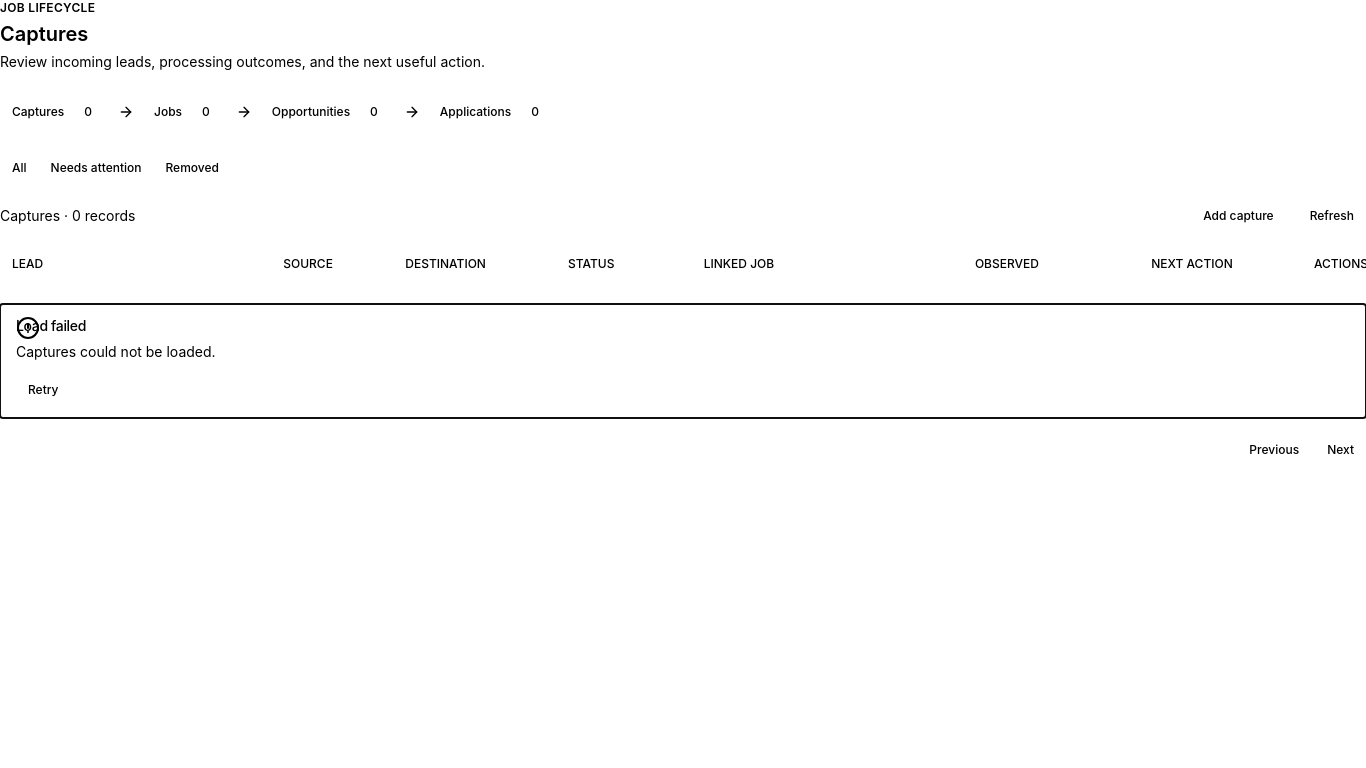
A308-4: shared Application modal actions and reconciliation › fetches Application through client when not in loaded data
Click the button "Applications 0" at (492, 112), box [428,96,557,128]
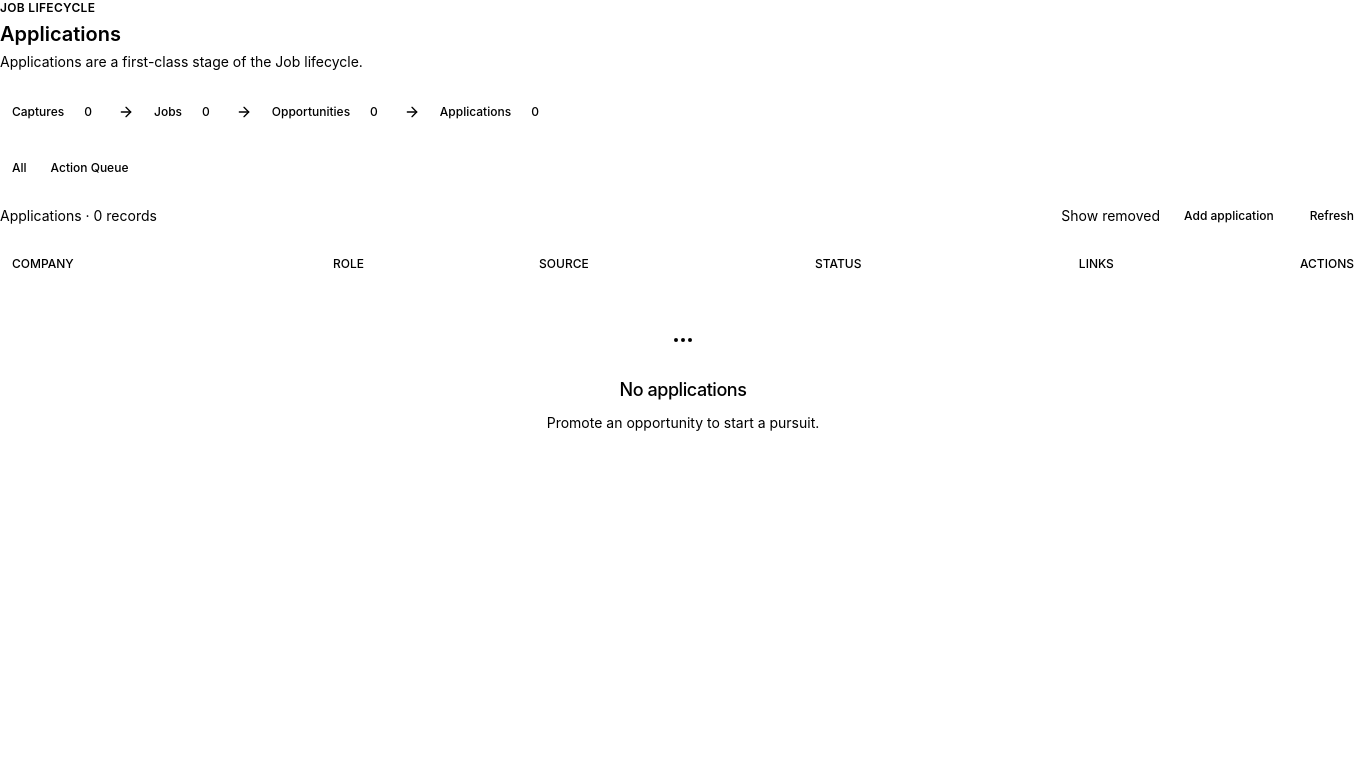
Click the radio button labelled "Action Queue" at (90, 168), box [39,152,140,184]
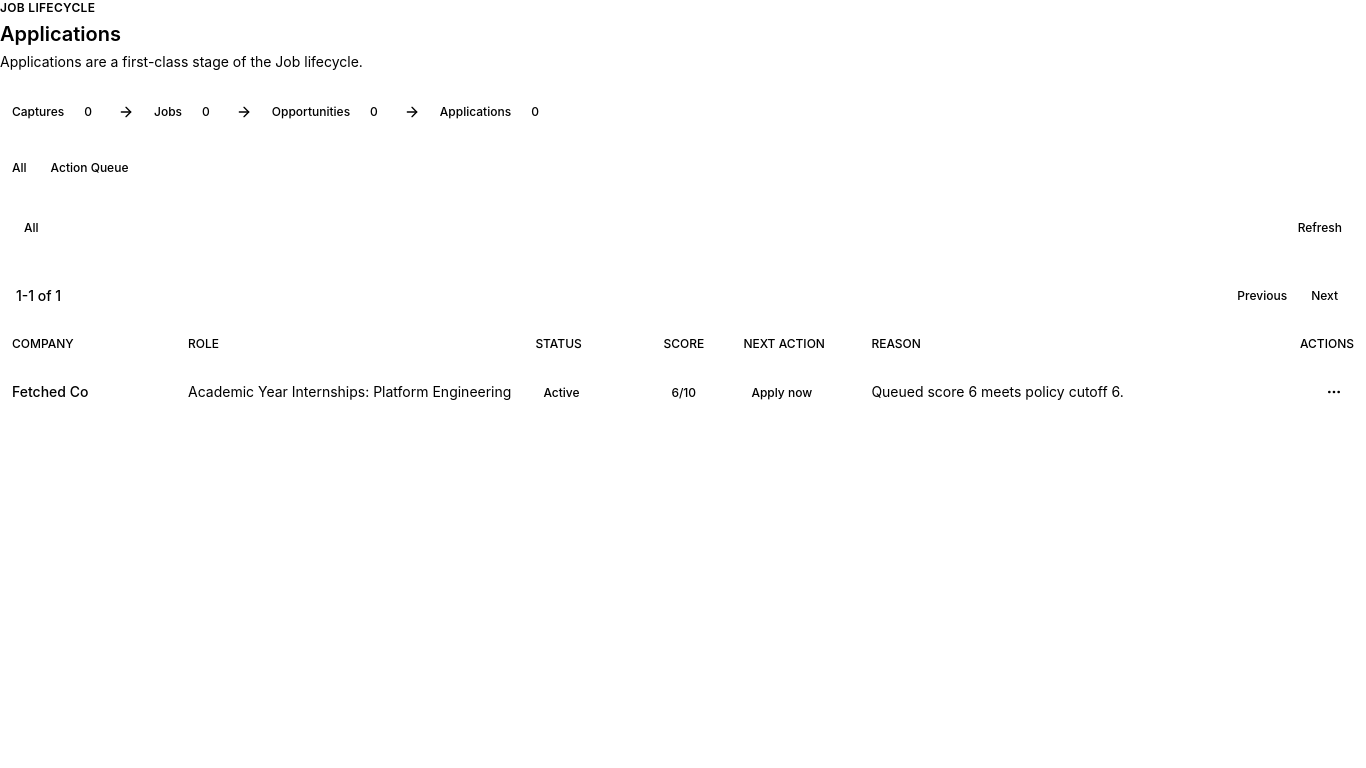
Now the table named "Action Queue" is shown, box [0,324,1365,420]
Click the button named "Actions for row" at (1334, 392), box [1314,376,1354,408]
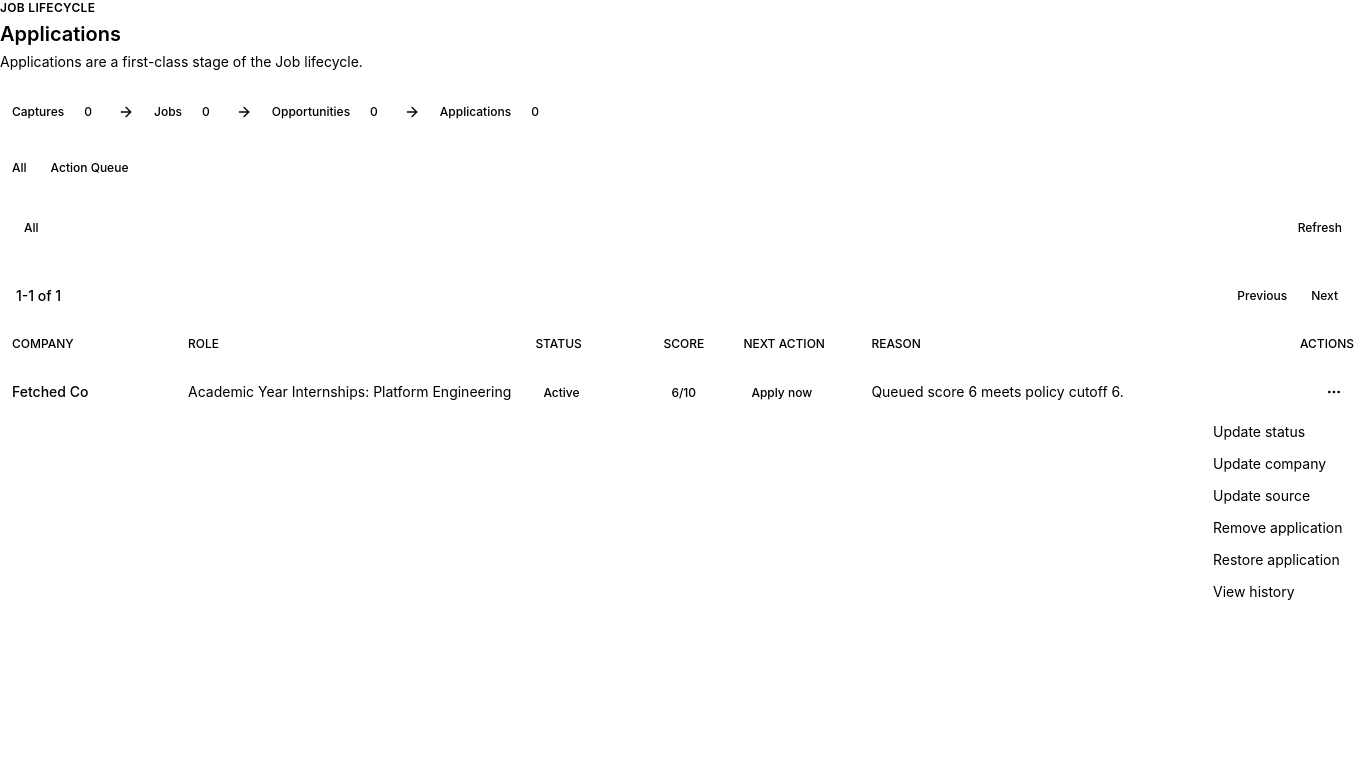
Click the menu item "Update status" at (1259, 432), box [1213,423,1305,440]
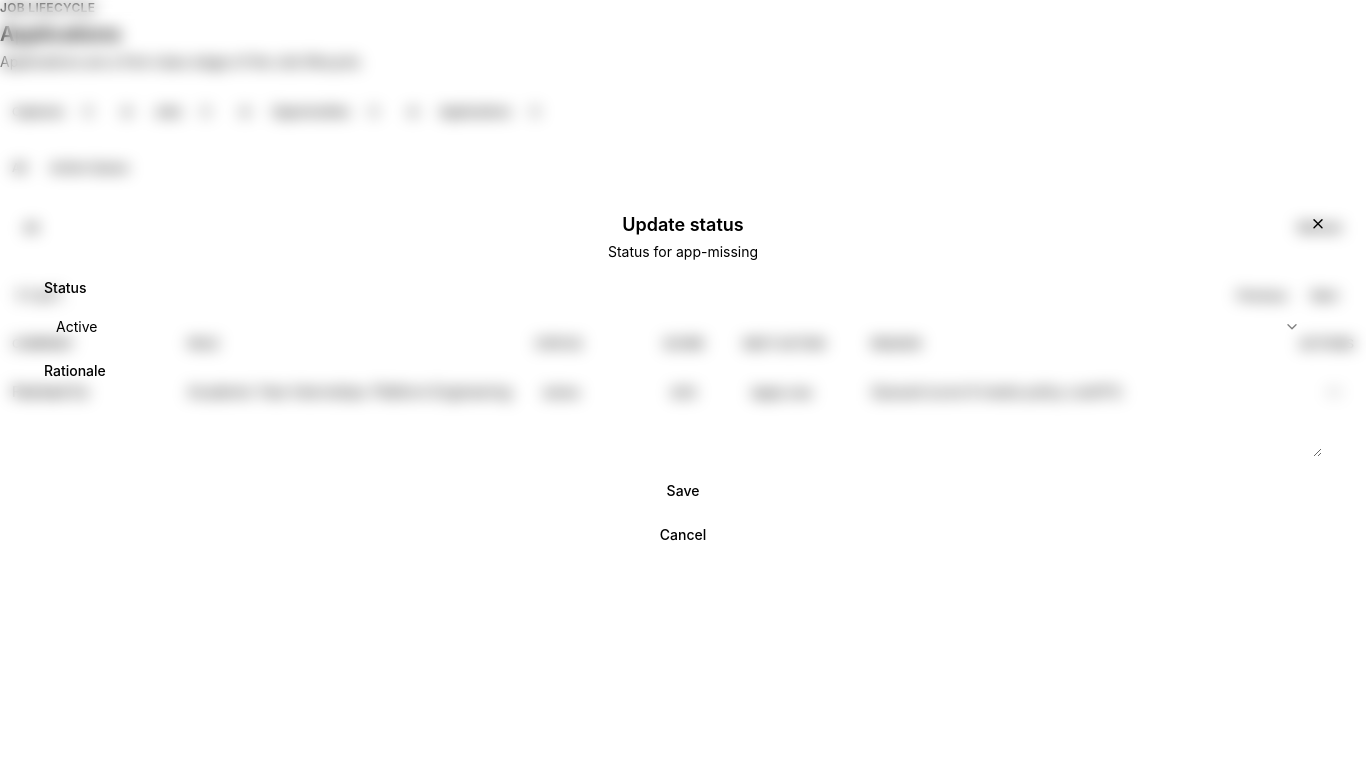
Now the dialog "Update status" is shown, box [16,192,1350,576]
